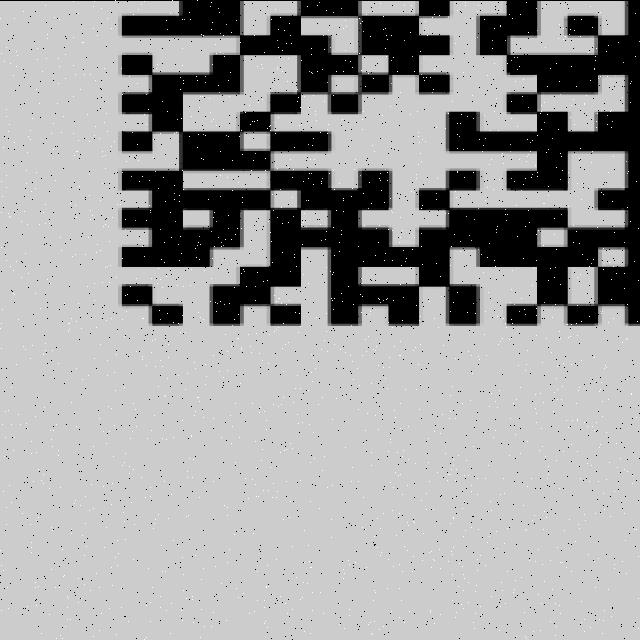datamatrix: (95, 0, 640, 335)
